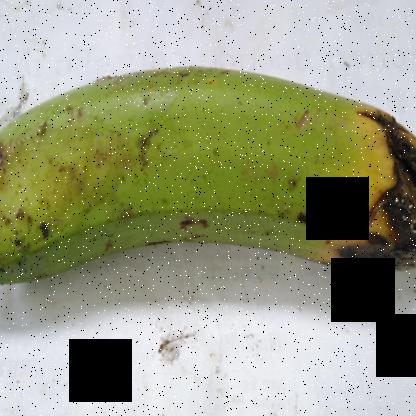rotten: (269, 80, 415, 316)
unripe: (0, 52, 308, 285)
